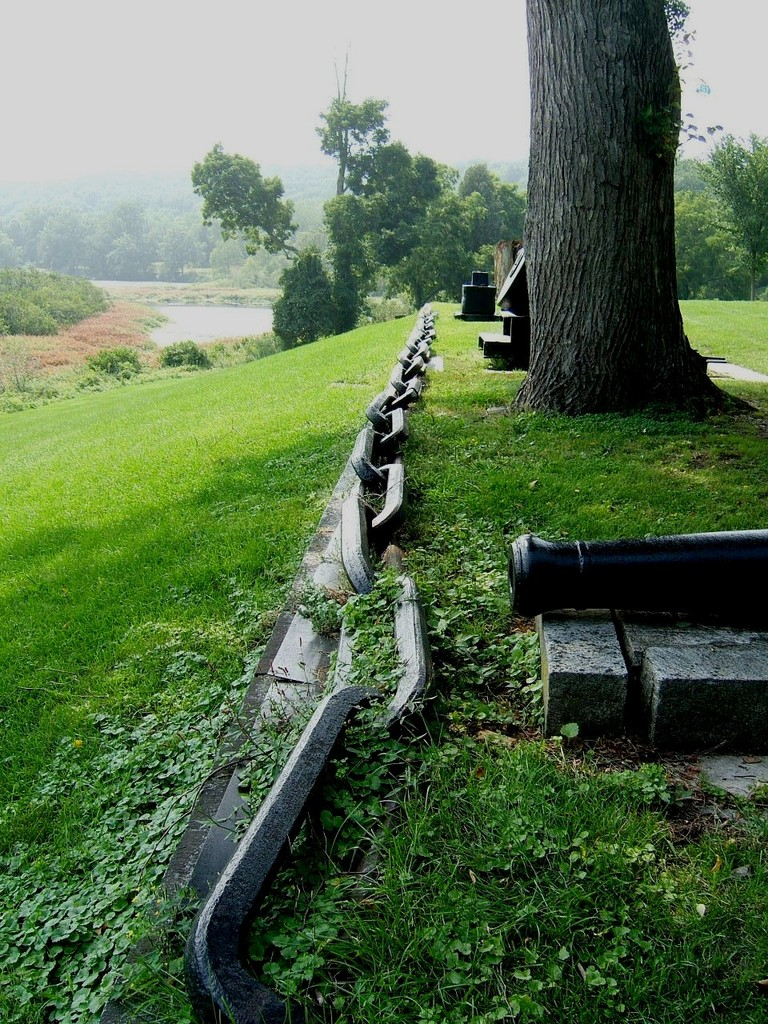Tree: (501, 0, 760, 416), (183, 90, 528, 345)
